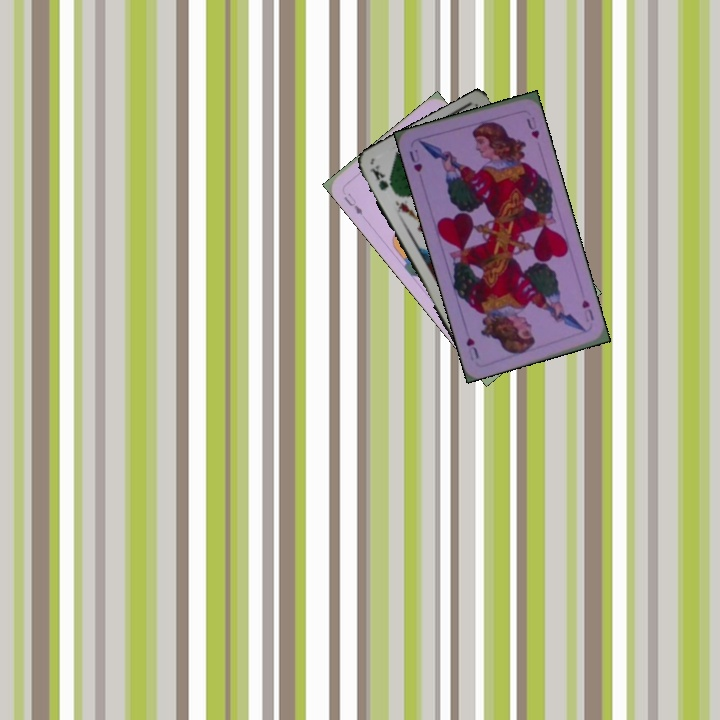EU: (340, 189, 365, 218)
GK: (366, 161, 397, 196)
HU: (405, 145, 425, 175), (578, 295, 597, 325)
